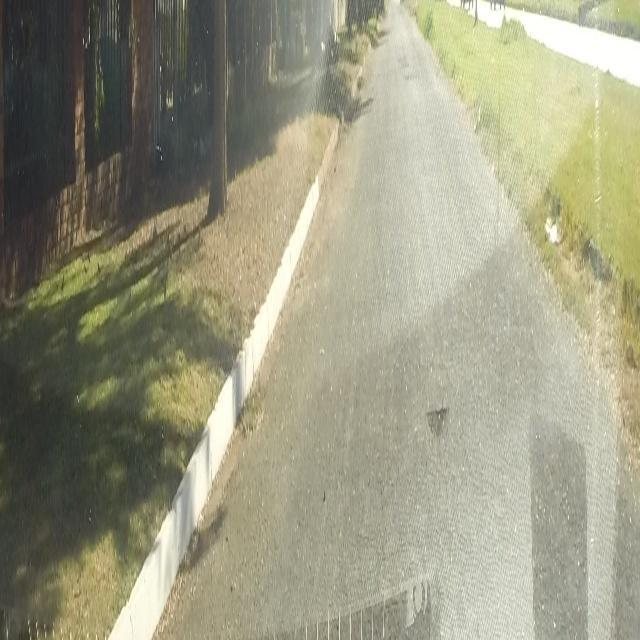pothole: (426, 398, 452, 441)
